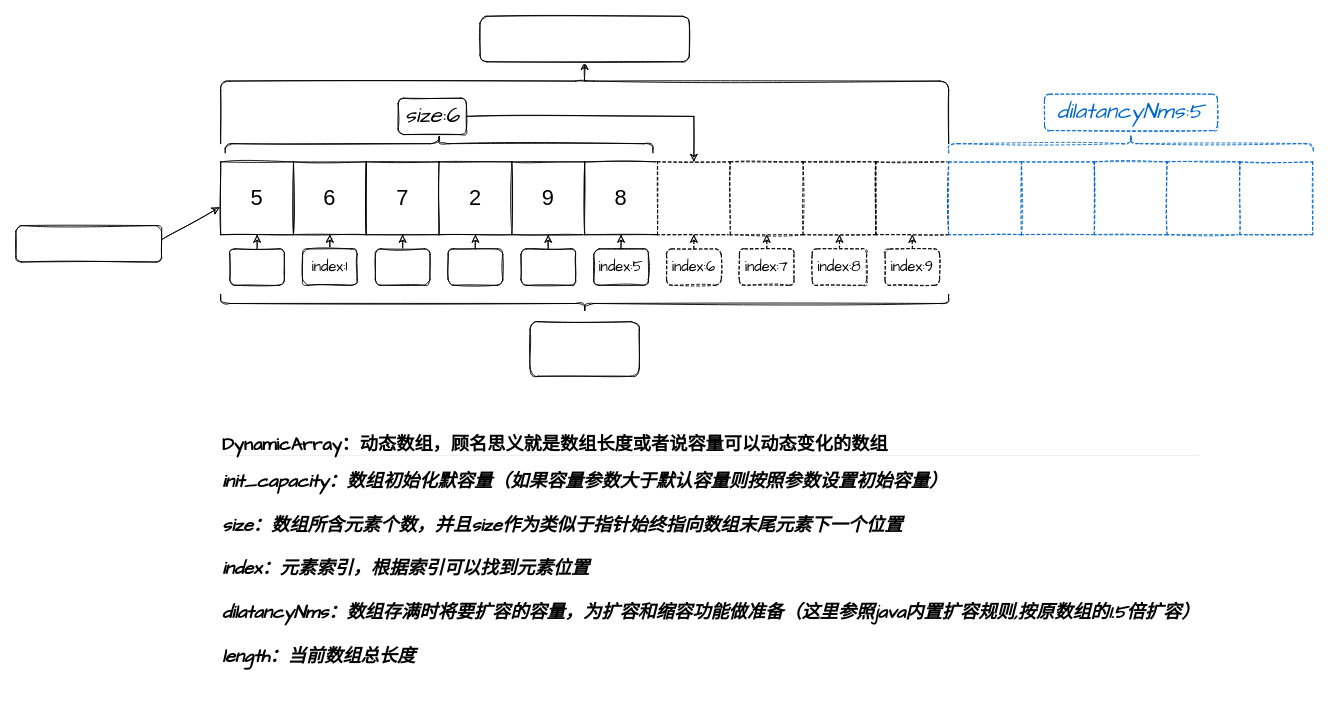
Some shapes in this 1330 by 702 pixel diagram are drawn without their labels. Here are the shapes that lost their labels. From the top down, the centre of each, then its label:
At (x=584, y=38): "init_capacity:10".
At (x=88, y=243): "DynamicArray<T>".
At (x=256, y=266): "index:0".
At (x=402, y=266): "index:2".
At (x=475, y=266): "index:3".
At (x=548, y=266): "index:4".
At (x=584, y=348): "length:10".
